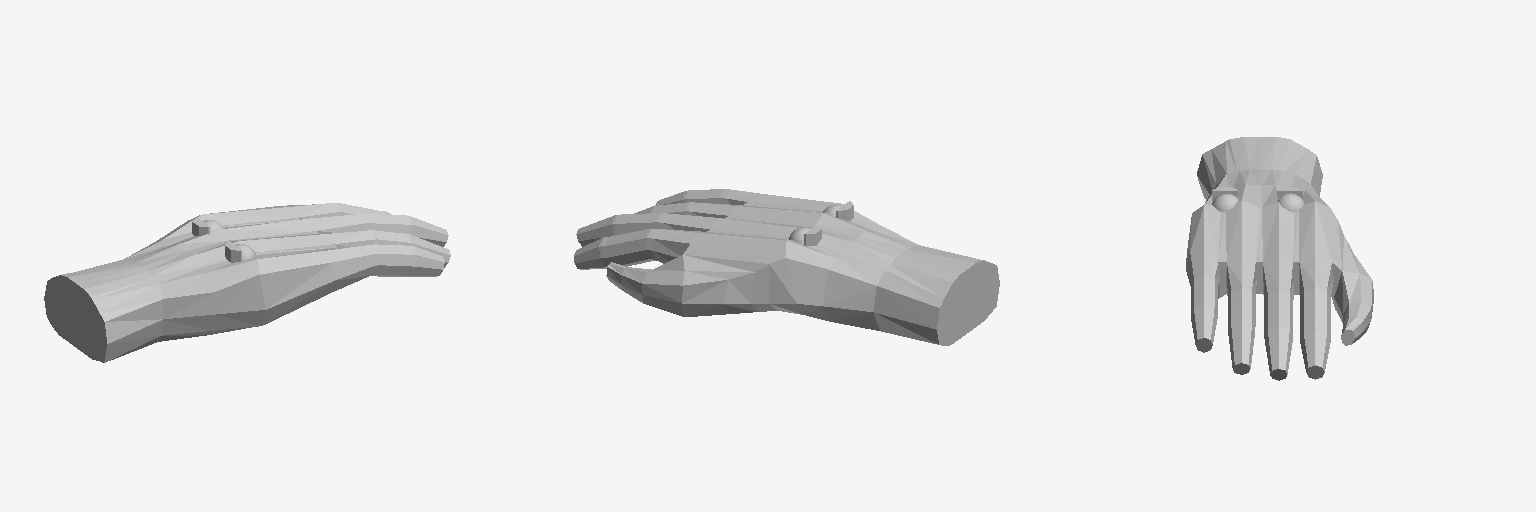
The model's file is main_controle.obj.
The picture shows the model from 3 angles: view 1: azimuth 30°, elevation 25°; view 2: azimuth 150°, elevation 25°; view 3: azimuth 270°, elevation 25°; orthographic projection.
Visible parts, largest first — view 1: Main; view 2: Main; view 3: Main.
Boxes of the visible parts, x1=… form: Main: x1=44, y1=203, x2=450, y2=362; Main: x1=574, y1=189, x2=999, y2=345; Main: x1=1186, y1=137, x2=1373, y2=380.
Size of the model in its own units: 107 by 22.45 by 45.96.